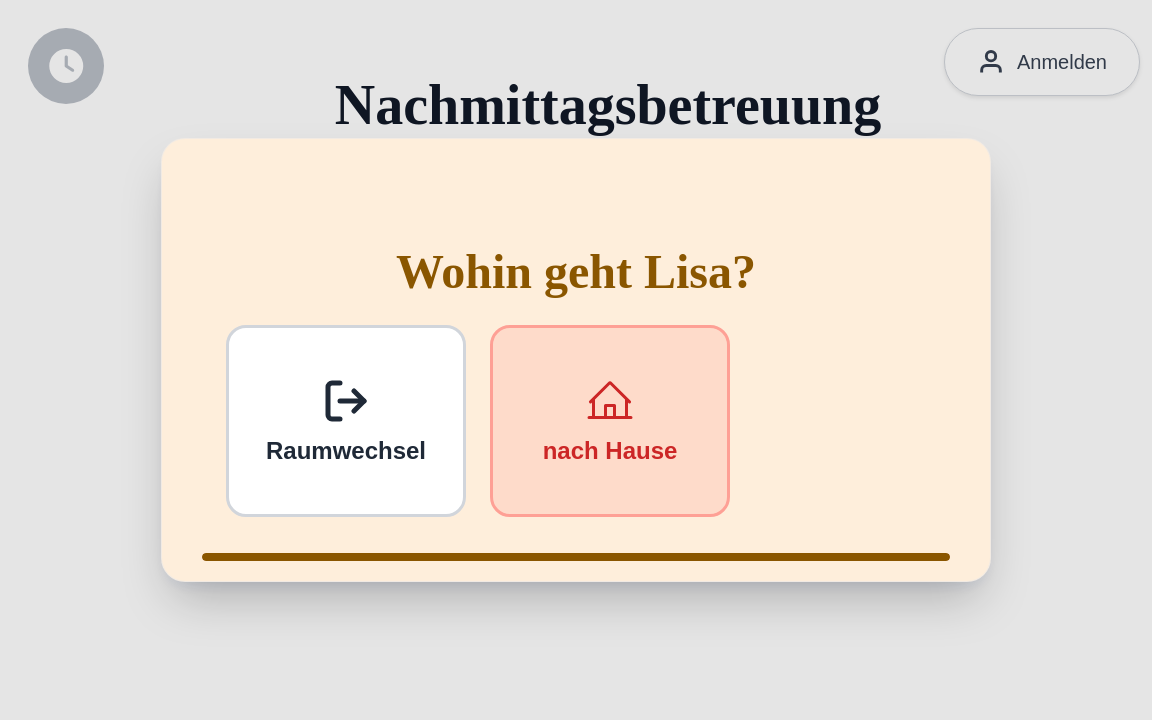
Scan page (checked_out) › handles nach Hause click and shows feedback prompt
Click the button "nach Hause" at [610, 421], box left=490, top=325, right=730, bottom=517
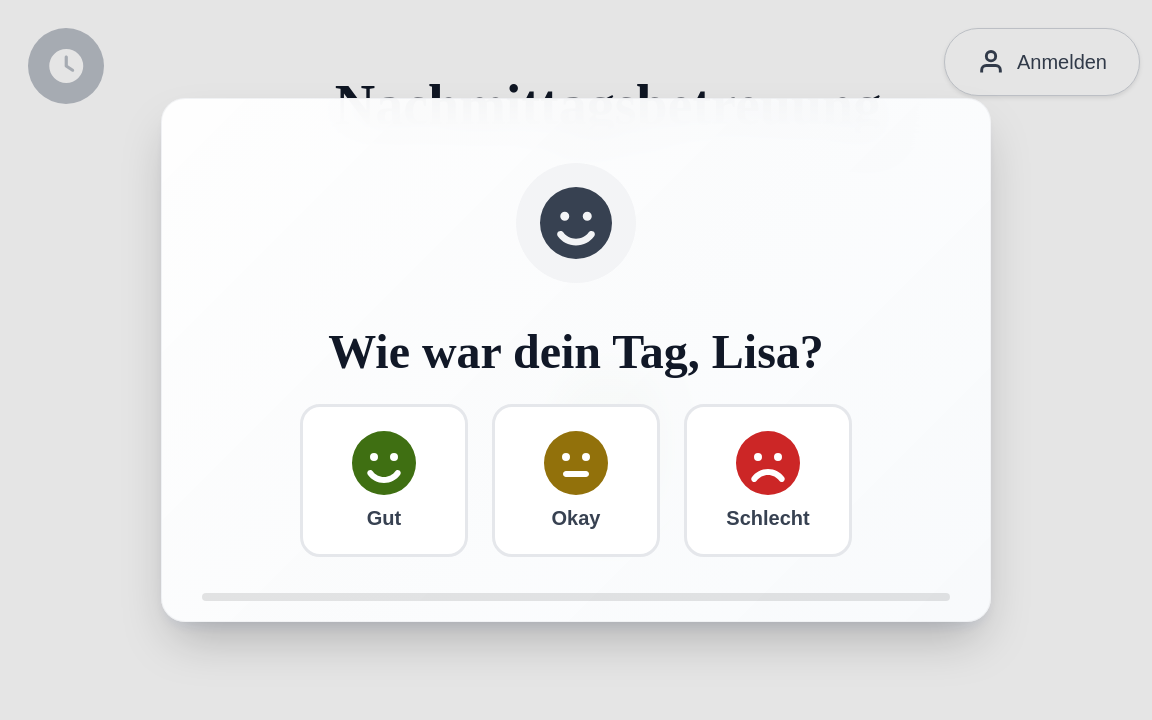
Now the heading "Wie war dein Tag, Lisa?" is shown, box left=328, top=325, right=824, bottom=378
Now the 1st picture is shown, box left=531, top=187, right=621, bottom=259
Now the text "Gut" is shown, box left=367, top=507, right=401, bottom=530
